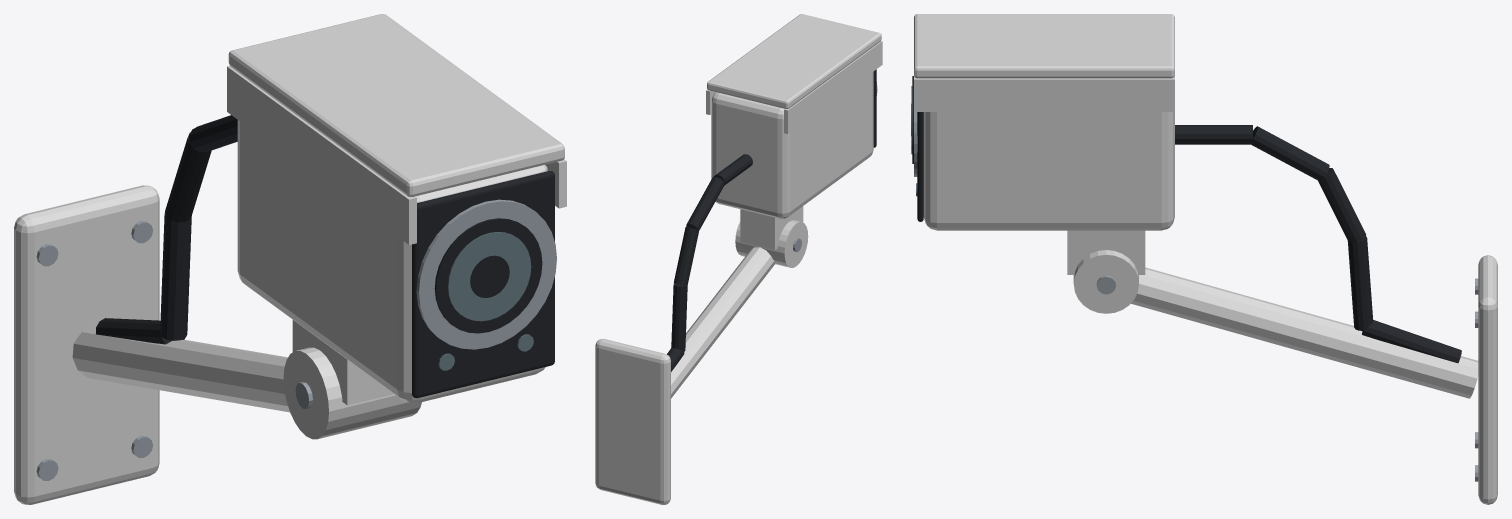
File: cctv.glb
The picture shows the model from 3 angles, left to right: view 1: azimuth 30°, elevation 25°; view 2: azimuth 150°, elevation 25°; view 3: azimuth 270°, elevation 25°; orthographic projection. The views are drawn at different scales.
Parts seen in each view (by area): view 1: merged_white, merged_dark, merged_metal, merged_lens; view 2: merged_white, merged_dark; view 3: merged_white, merged_dark, merged_metal.
Boxes of the visible parts, left/top/right/bottom form: merged_white: left=14, top=14, right=566, bottom=504; merged_dark: left=96, top=115, right=554, bottom=398; merged_metal: left=36, top=199, right=556, bottom=480; merged_lens: left=438, top=232, right=533, bottom=370; merged_white: left=595, top=14, right=882, bottom=504; merged_dark: left=667, top=69, right=876, bottom=371; merged_white: left=914, top=14, right=1497, bottom=504; merged_dark: left=911, top=76, right=1461, bottom=363; merged_metal: left=914, top=76, right=1478, bottom=481.
Size of the model in its own units: 0.04 by 0.15 by 0.18.
